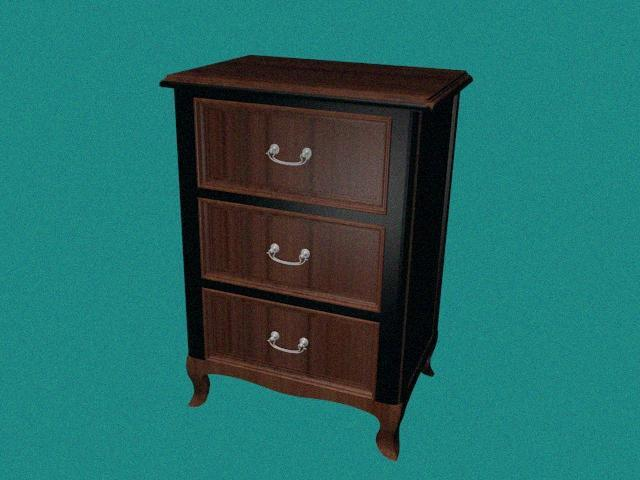cabinet_door: (195, 109, 388, 200), (200, 212, 382, 296), (204, 306, 378, 379)
handle: (264, 331, 312, 358), (265, 243, 313, 268), (264, 144, 312, 168)
